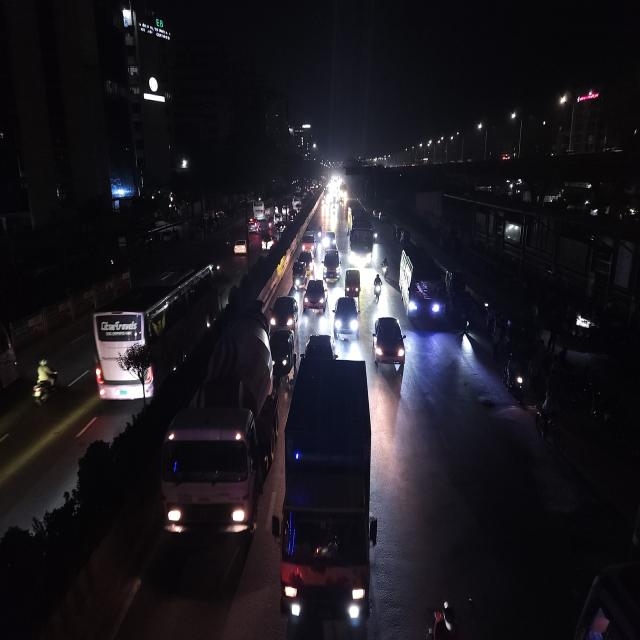bus: (281, 350, 380, 640), (89, 255, 219, 405), (398, 243, 447, 331), (345, 198, 375, 268), (253, 202, 270, 219)
car: (562, 556, 640, 640), (371, 313, 407, 375), (333, 293, 360, 344), (270, 324, 294, 380), (270, 292, 298, 332), (302, 276, 328, 314), (321, 245, 341, 282), (300, 229, 319, 257), (232, 233, 250, 258), (260, 232, 276, 253), (324, 228, 338, 249), (246, 215, 258, 233)
cng: (290, 260, 309, 290)
motorcycle: (422, 596, 467, 640), (28, 356, 62, 411), (372, 271, 384, 302), (380, 256, 390, 282)
truck: (159, 316, 278, 545)
